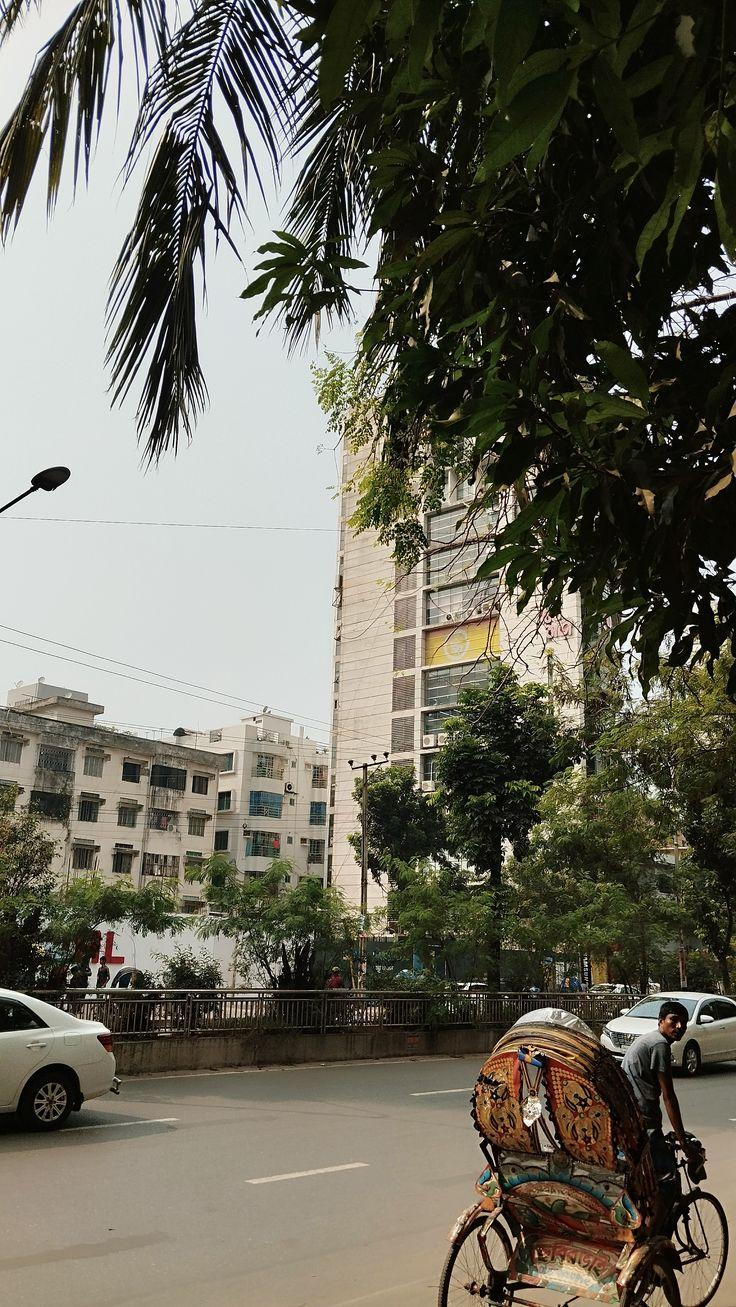Rickshaw: (439, 1009, 726, 1306)
